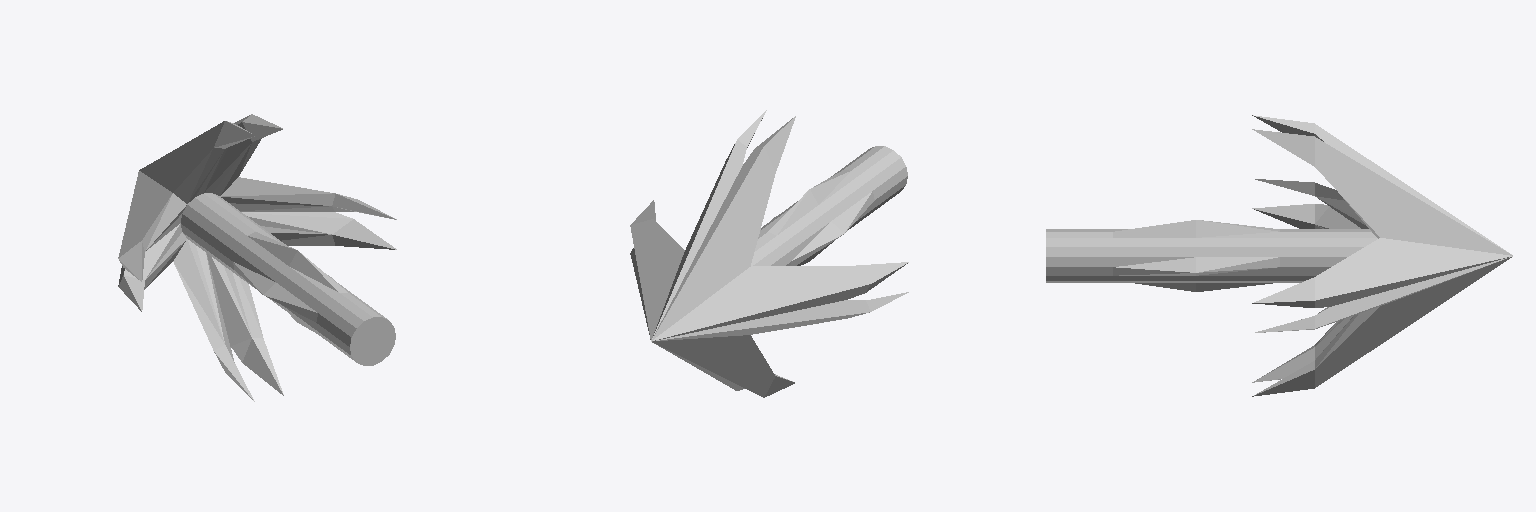
File: grapple_anchor.sgm.obj
The picture shows the model from 3 angles: view 1: azimuth 30°, elevation 25°; view 2: azimuth 150°, elevation 25°; view 3: azimuth 270°, elevation 25°; orthographic projection.
Bounding box in the file's own units: 0.2209 × 0.2209 × 0.35.